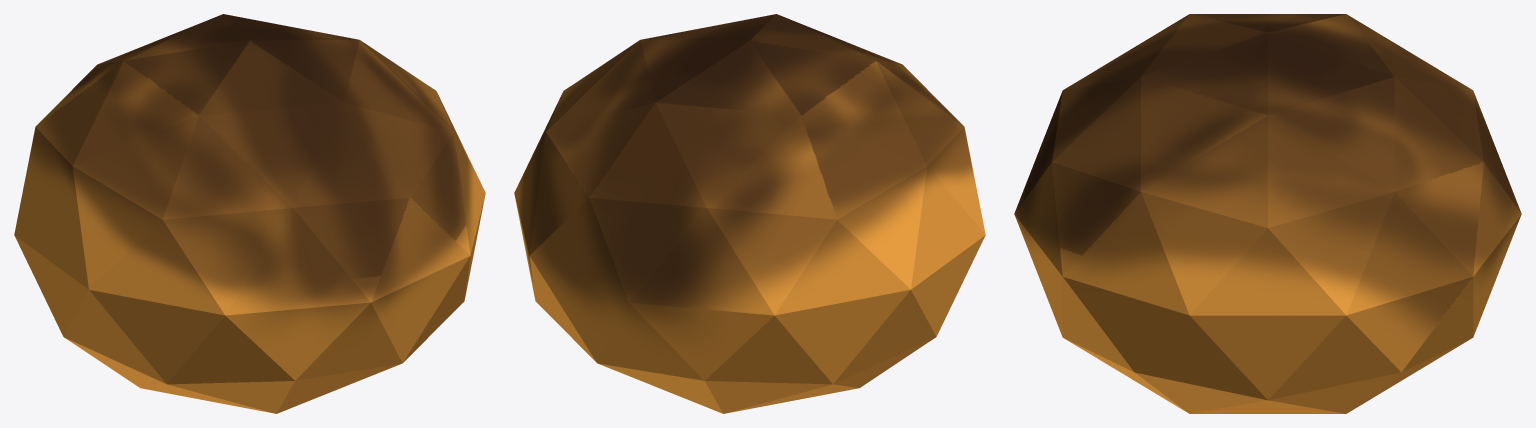
File: snake_body.dae
3 views of the same model, side by side, from view 1: azimuth 30°, elevation 25°; view 2: azimuth 150°, elevation 25°; view 3: azimuth 270°, elevation 25° (orthographic). The views are drawn at different scales.
Parts seen in each view (by area): view 1: Icosphere; view 2: Icosphere; view 3: Icosphere.
Part boxes in pixels (<box>): Icosphere: <box>14,14,485,413</box>; Icosphere: <box>514,14,985,413</box>; Icosphere: <box>1014,14,1521,413</box>.
Size of the model in its own units: 1.88 by 1.99 by 1.57.
Materials: 1 (1 with a texture image).
